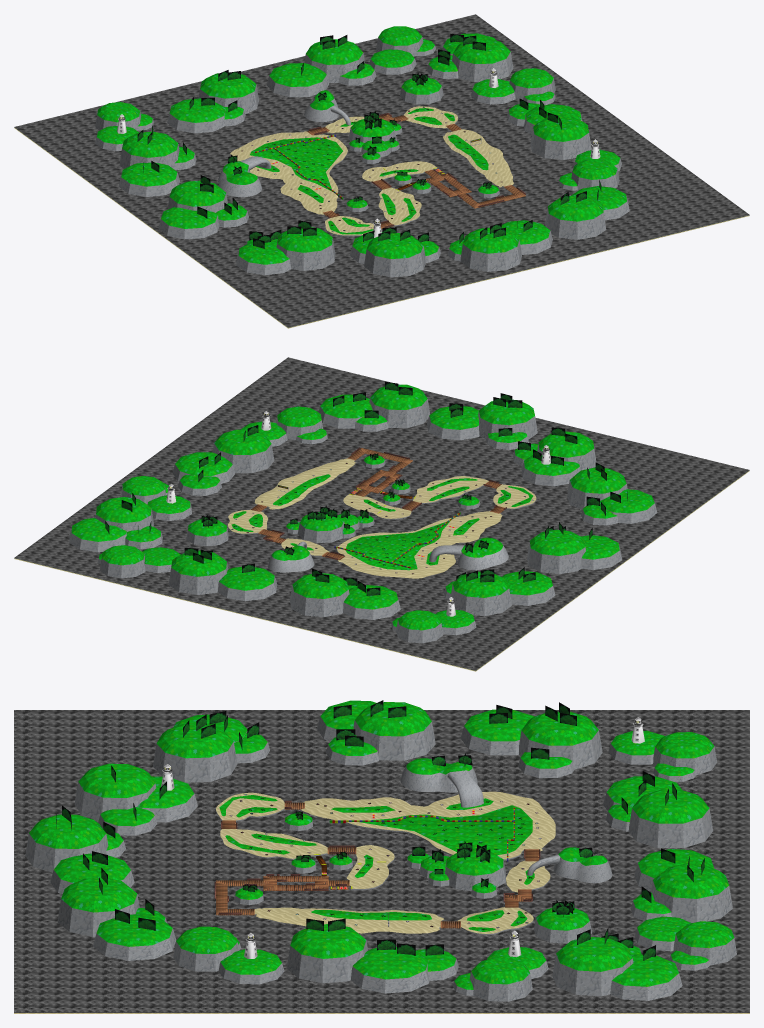
3 views of the same model, one above another, from view 1: azimuth 30°, elevation 25°; view 2: azimuth 150°, elevation 25°; view 3: azimuth 270°, elevation 25° (orthographic). The views are drawn at different scales.
Parts seen in each view (by area): view 1: obj_pochatopMesh.001, obj_grassMesh.002, obj_cliffMesh.002, obj_sandMesh.002, obj_fakeleafMesh, obj_woodMesh.001, obj_lighthouseMesh; view 2: obj_pochatopMesh.001, obj_grassMesh.002, obj_cliffMesh.002, obj_sandMesh.002, obj_fakeleafMesh, obj_woodMesh.001, obj_lighthouseMesh; view 3: obj_pochatopMesh.001, obj_grassMesh.002, obj_cliffMesh.002, obj_sandMesh.002, obj_fakeleafMesh, obj_woodMesh.001, obj_lighthouseMesh, obj_woodblockMesh, obj_wallMesh.
Part boxes in pixels (x1,y1,x2,y2): obj_pochatopMesh.001: (14,14,749,327); obj_grassMesh.002: (97,26,626,264); obj_cliffMesh.002: (95,37,629,277); obj_sandMesh.002: (14,106,749,328); obj_fakeleafMesh: (137,34,601,248); obj_woodMesh.001: (307,114,525,228); obj_lighthouseMesh: (117,68,600,237); obj_pochatopMesh.001: (14,357,749,670); obj_grassMesh.002: (71,384,654,630); obj_cliffMesh.002: (69,398,657,643); obj_sandMesh.002: (14,458,749,671); obj_fakeleafMesh: (105,381,627,595); obj_woodMesh.001: (251,448,504,560); obj_lighthouseMesh: (166,411,550,616); obj_pochatopMesh.001: (14,710,749,1012); obj_grassMesh.002: (29,700,734,989); obj_cliffMesh.002: (25,716,736,1001); obj_sandMesh.002: (14,791,749,1013); obj_fakeleafMesh: (56,700,704,960); obj_woodMesh.001: (216,802,538,928); obj_lighthouseMesh: (161,717,644,958); obj_woodblockMesh: (214,800,540,914); obj_wallMesh: (329,808,514,861).
Bounding box in the file's own units: 157589 × 11123 × 162014.
Materials: 18 (18 with a texture image).
